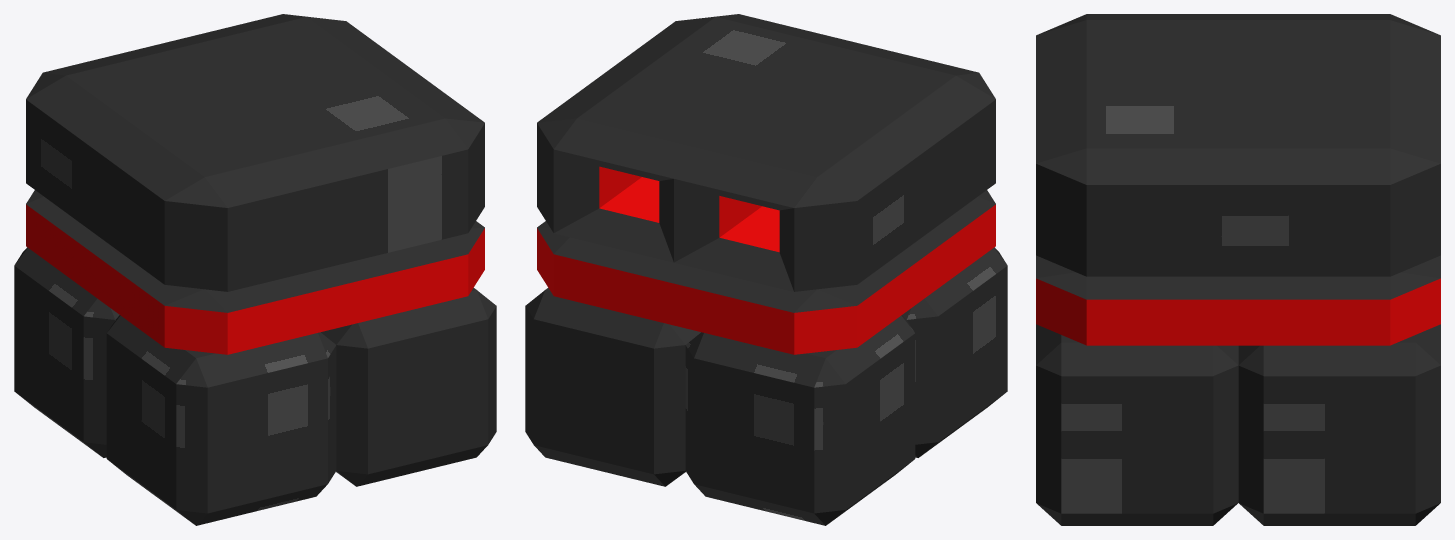
3 renders of one model, left to right at view 1: azimuth 30°, elevation 25°; view 2: azimuth 150°, elevation 25°; view 3: azimuth 270°, elevation 25°, orthographic. The views are drawn at different scales.
Visible parts, largest first — view 1: beveled_cuboid (×5); view 2: beveled_cuboid (×5); view 3: beveled_cuboid (×4).
Part boxes in pixels (x1,y1,x2,y2): beveled_cuboid (×5): [14, 14, 496, 525]; beveled_cuboid (×5): [525, 14, 1007, 525]; beveled_cuboid (×4): [1036, 14, 1440, 525].
Bounding box in the file's own units: 0.75 × 0.75 × 0.75.
Materials: 1 (1 with a texture image).
